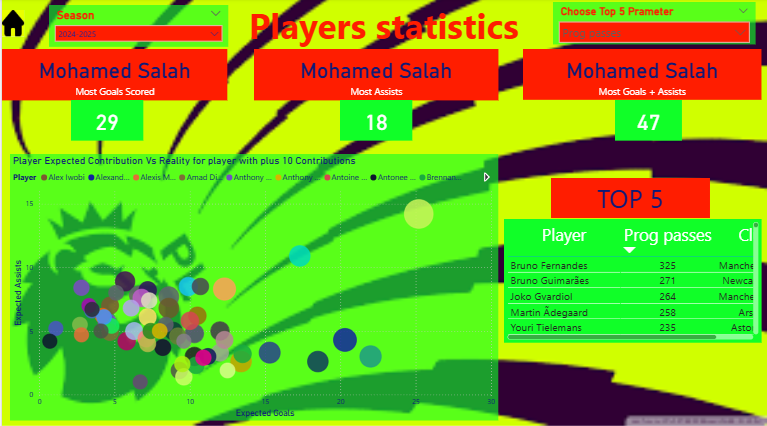

Layout of this report page (visuals, bound fields, positions):
{"tool":"powerbi","page":{"name":"Players Statistics","canvas":[1280,720],"ordinal":2},"visuals":[{"type":"textbox","box":[357.1,0,564.5,300],"z":0},{"type":"card","fields":{"Values":["Min(player_stats_final.Player)"]},"box":[0,84.5,377.4,86],"z":1000},{"type":"card","fields":{"Values":["Min(player_stats_final.Player)"]},"box":[421.1,84.5,409.1,86],"z":2000},{"type":"card","fields":{"Values":["Min(player_stats_final.Player)"]},"box":[871.2,85,398.9,85],"z":3000},{"type":"card","fields":{"Values":["Max(player_stats_final.Performance_Gls)"]},"box":[116.2,170.6,120.8,67.9],"z":4000},{"type":"card","fields":{"Values":["Max(player_stats_final.Performance_Ast)"]},"box":[566,170.6,120.8,67.9],"z":5000},{"type":"card","fields":{"Values":["Max(player_stats_final.Performance_G+A)"]},"box":[1024.9,170.6,111.7,67.9],"z":6000},{"type":"scatterChart","title":"Player Expected Contribution Vs Reality for player with plus 10 Contributions","fields":{"Series":["player_stats_final.Player"],"X":["Sum(player_stats_final.Expected_xG)"],"Size":["Sum(player_stats_final.Performance_G+A)"],"Category":["player_stats_final.Performance_G+A"],"Y":["Sum(player_stats_final.Expected_xAG)"]},"box":[12.9,261.6,816.9,446],"z":7000},{"type":"slicer","fields":{"Values":["player_stats_final.Season"]},"box":[78.6,11.7,299.5,70.3],"z":8000},{"type":"textbox","box":[919,302,266,66.9],"z":9000},{"type":"tableEx","fields":{"Values":["player_stats_final.Player","player_stats_final.Prog passes","player_stats_final.Squad"]},"box":[839.5,370.1,430.6,207.4],"z":10000},{"type":"slicer","fields":{"Values":["Parameter.Parameter"]},"box":[921.9,6.4,338.8,70.8],"z":11000},{"type":"actionButton","box":[0,20.1,36.8,43.5],"z":12000}]}

Visuals, with their boxes in screenshot pixels (x1, y1, x2, y2), scaled from the page's 1280x720 canvas onto the 767x426 screenshot:
textbox: l=214, t=0, r=552, b=178
card - Min(player_stats_final.Player): l=0, t=50, r=226, b=101
card - Min(player_stats_final.Player): l=252, t=50, r=497, b=101
card - Min(player_stats_final.Player): l=522, t=50, r=761, b=101
card - Max(player_stats_final.Performance_Gls): l=70, t=101, r=142, b=141
card - Max(player_stats_final.Performance_Ast): l=339, t=101, r=412, b=141
card - Max(player_stats_final.Performance_G+A): l=614, t=101, r=681, b=141
"Player Expected Contribution Vs Reality for player with plus 10 Contributions" scatterChart: l=8, t=155, r=497, b=419
slicer - player_stats_final.Season: l=47, t=7, r=227, b=49
textbox: l=551, t=179, r=710, b=218
tableEx - player_stats_final.Player x player_stats_final.Prog passes: l=503, t=219, r=761, b=342
slicer - Parameter.Parameter: l=552, t=4, r=755, b=46
actionButton: l=0, t=12, r=22, b=38
